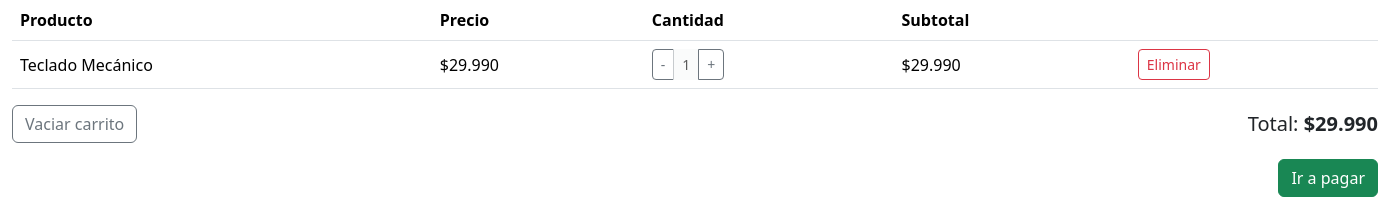
CarritoVista › aumenta la cantidad y recalcula el total al hacer clic en +
Click the button named "Aumentar Teclado Mecánico" at {"x": 711, "y": 64}, box [698,49,724,80]
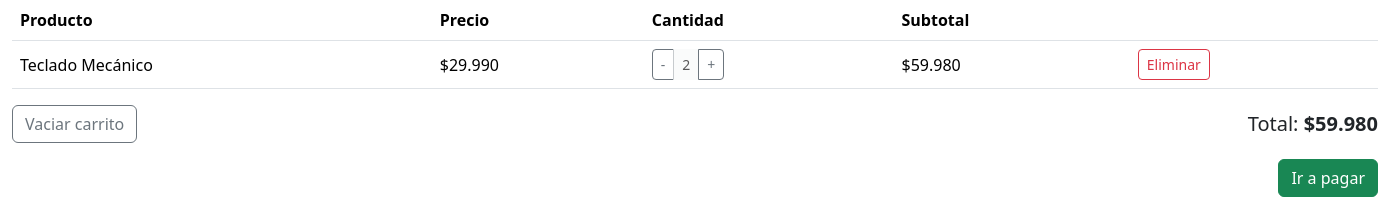
Check: the button with test id "cantidad-3" reads "2", box [682,55,690,74]
Check: the text with test id "total" reads "$59.980", box [1304,110,1378,137]
